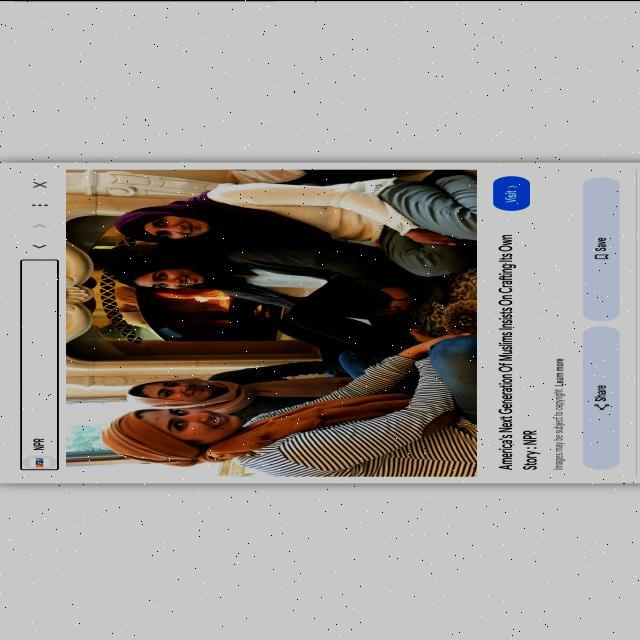face_mask: (131, 408, 249, 444), (139, 215, 215, 241), (145, 380, 223, 400), (138, 270, 206, 288)
